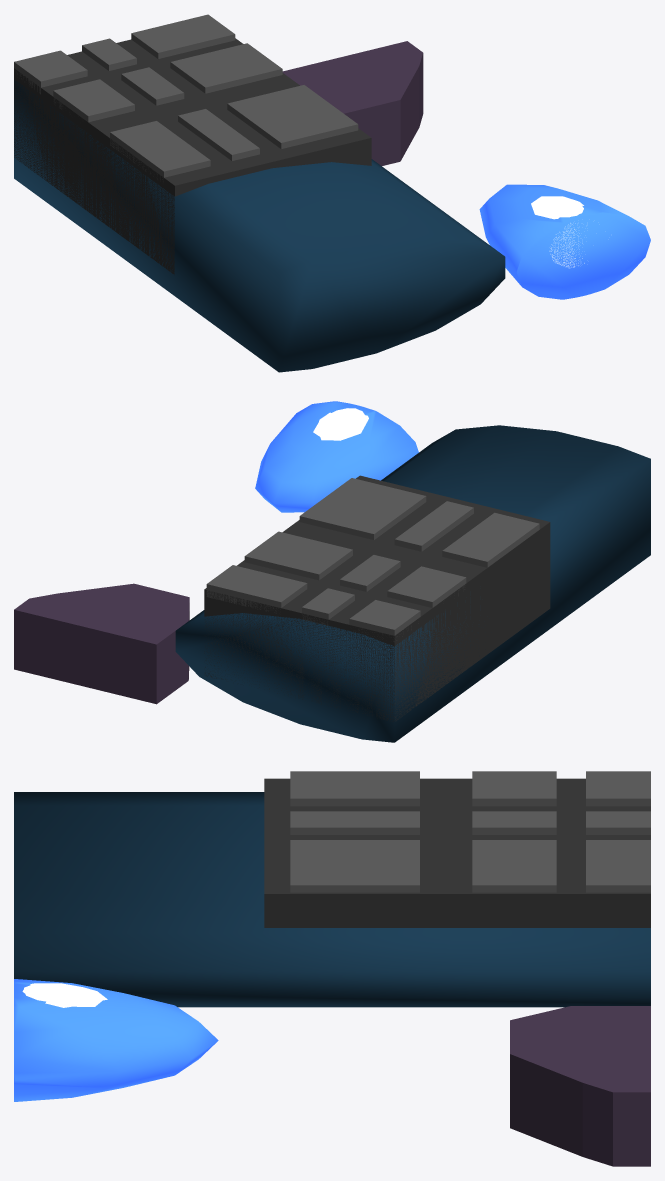
Rendered from newshb-45.glb.
The picture shows the model from 3 angles, top to bottom: view 1: azimuth 30°, elevation 25°; view 2: azimuth 150°, elevation 25°; view 3: azimuth 270°, elevation 25°; orthographic projection. The views are drawn at different scales.
Visible parts, largest first — view 1: newshb-45; view 2: newshb-45; view 3: newshb-45.
Boxes of the visible parts, <box> form: newshb-45: <box>14,14,650,372</box>; newshb-45: <box>14,401,650,742</box>; newshb-45: <box>14,771,650,1166</box>.
Bounding box in the file's own units: 2 × 0.665 × 2.33.
